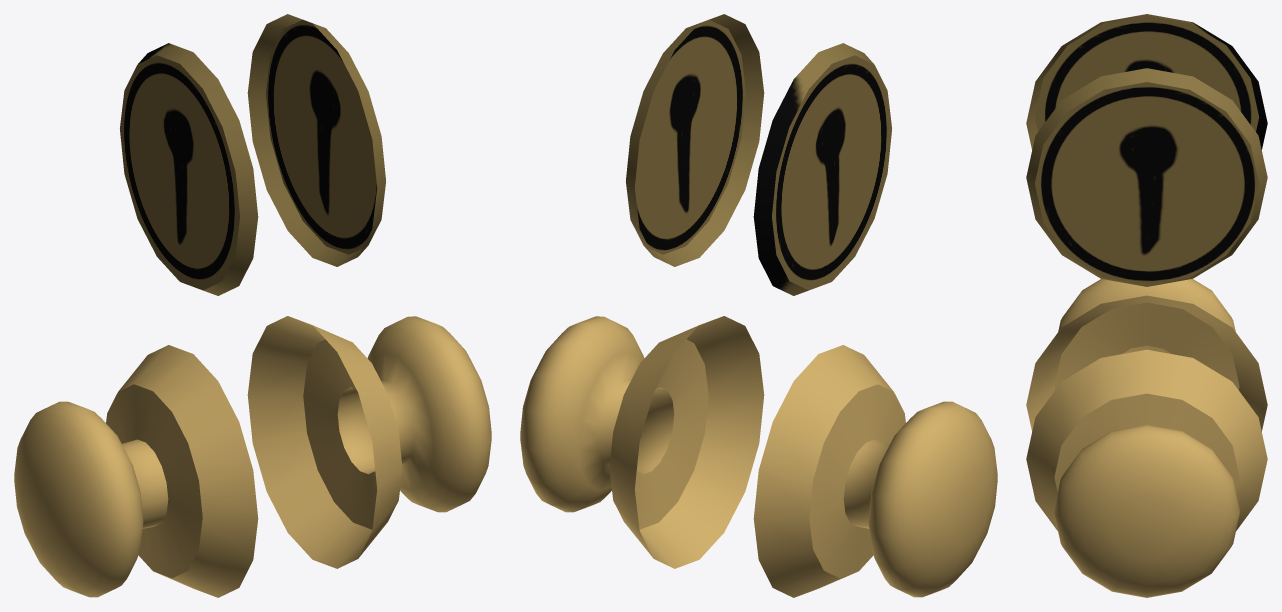
Rendered from mainDoorHandle.fbx.
3 renders of one model, left to right at view 1: azimuth 30°, elevation 25°; view 2: azimuth 150°, elevation 25°; view 3: azimuth 270°, elevation 25°, orthographic. The views are drawn at different scales.
Visible parts, largest first — view 1: polySurface72; view 2: polySurface72; view 3: polySurface72.
Part boxes in pixels (x1,y1,x2,y2): polySurface72: (14,14,491,597); polySurface72: (520,14,997,597); polySurface72: (1026,14,1267,597).
Size of the model in its own units: 0.2737 by 0.327 by 0.143.
